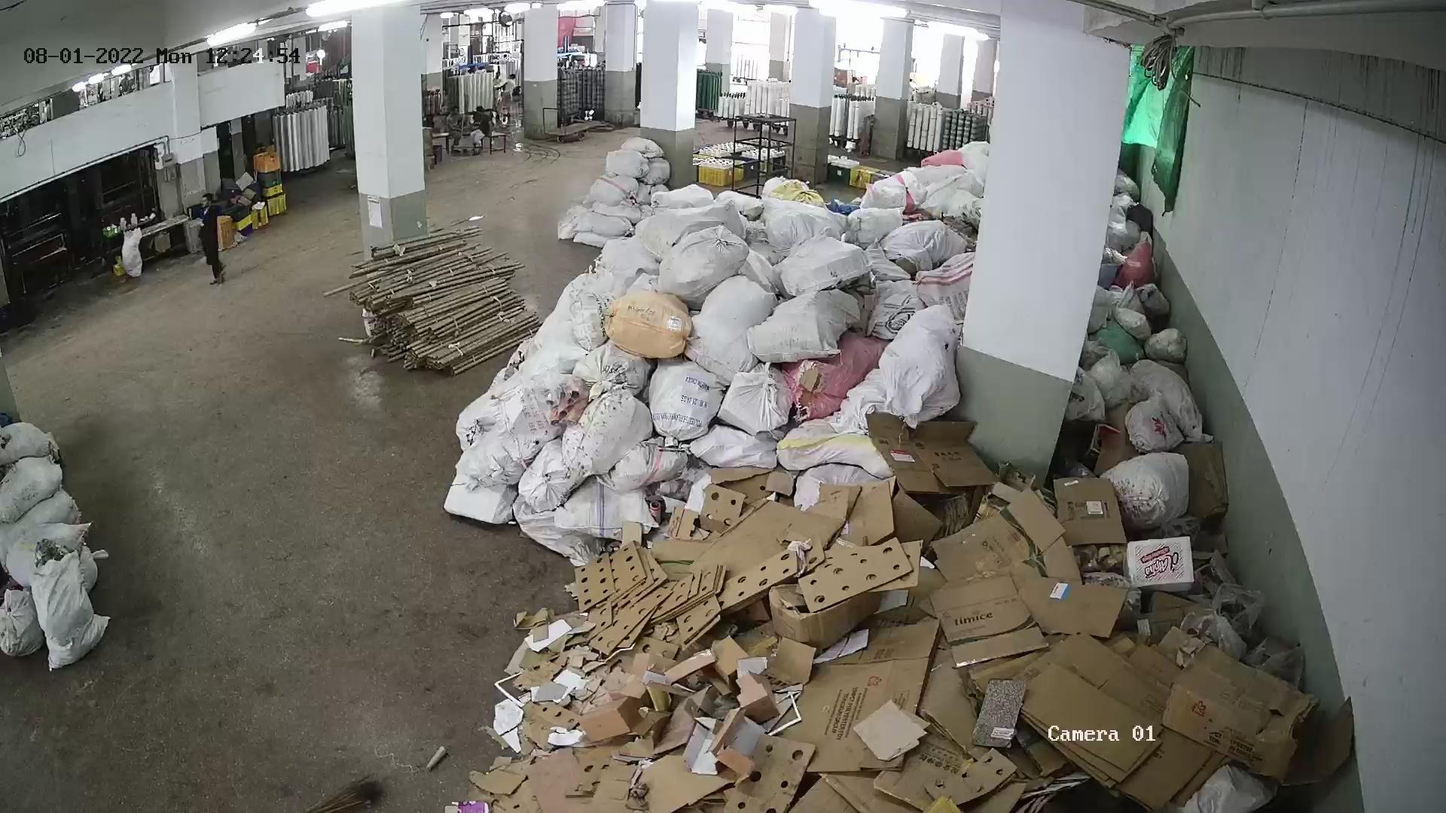person: (200, 188, 226, 282)
